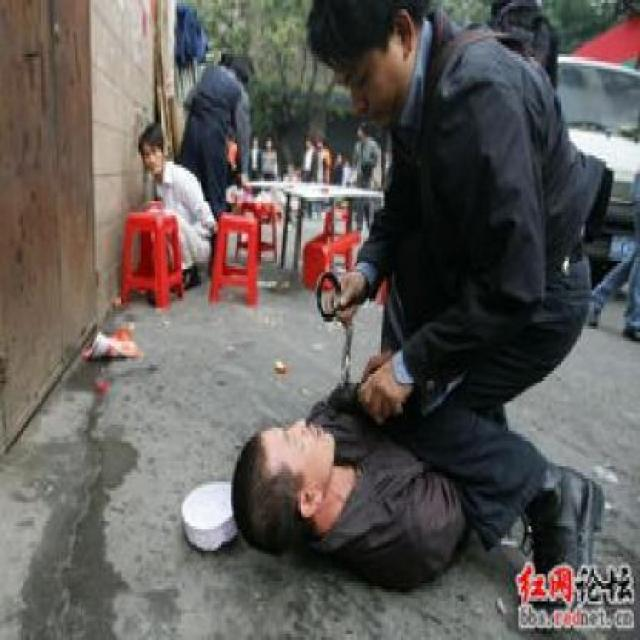fall: (214, 356, 626, 601)
